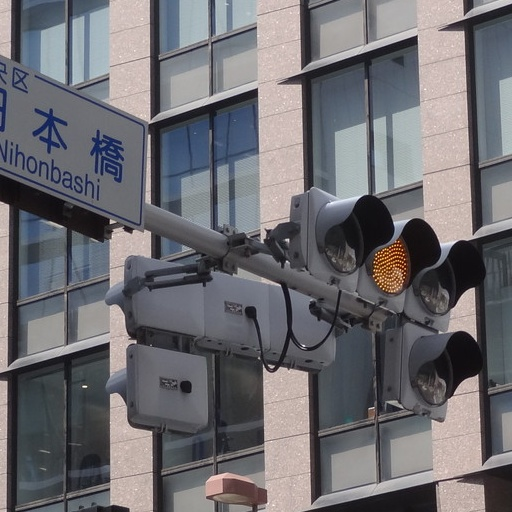Traffic_Signal_Yellow: (294, 177, 476, 321)
